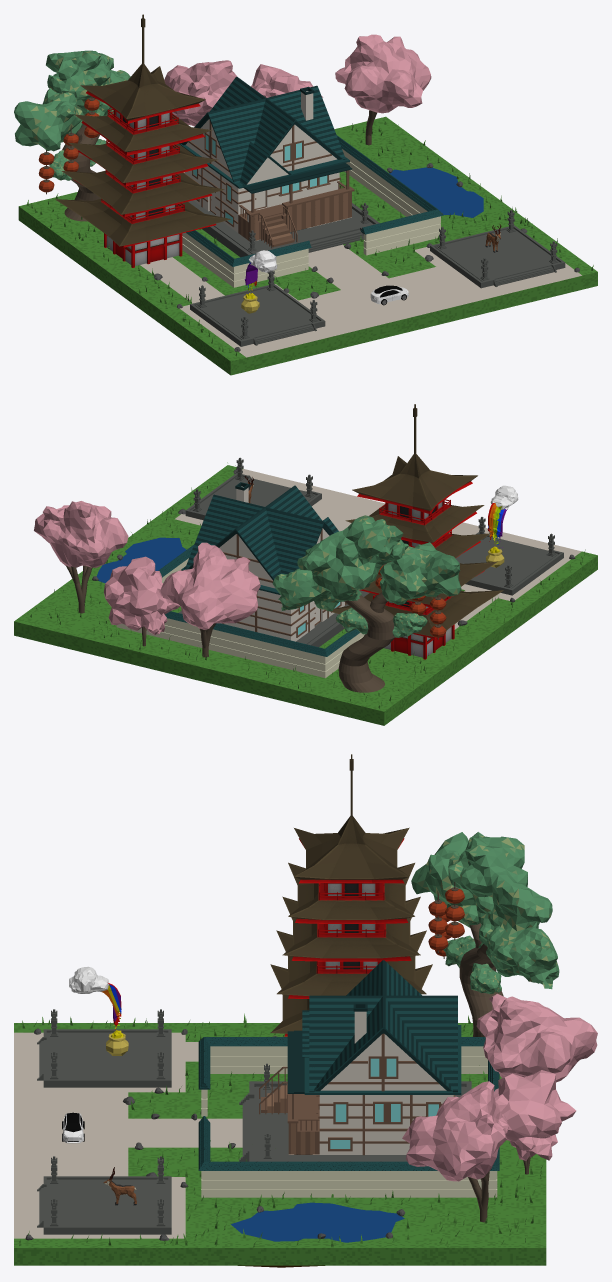
The picture shows the model from 3 angles, top to bottom: view 1: azimuth 30°, elevation 25°; view 2: azimuth 150°, elevation 25°; view 3: azimuth 270°, elevation 25°; orthographic projection. The views are drawn at different scales.
Visible parts, largest first — view 1: Cube.005, Cube.793, OBJRANDOM_RAINBOW, VEHICLES_TESLA; view 2: Cube.005, Cube.793, OBJRANDOM_RAINBOW; view 3: Cube.005, Cube.793, OBJRANDOM_RAINBOW.
Part boxes in pixels (box(x1,y1,x2,y2)): Cube.005: box(14, 14, 597, 375); Cube.793: box(179, 76, 354, 248); OBJRANDOM_RAINBOW: box(241, 250, 277, 313); VEHICLES_TESLA: box(370, 285, 408, 305); Cube.005: box(14, 404, 597, 725); Cube.793: box(181, 482, 346, 641); OBJRANDOM_RAINBOW: box(486, 485, 518, 567); Cube.005: box(14, 754, 597, 1265); Cube.793: box(259, 960, 461, 1155); OBJRANDOM_RAINBOW: box(69, 966, 128, 1055).
Bounding box in the file's own units: 4528 × 2756 × 4389.
Materials: 41 (6 with a texture image).
